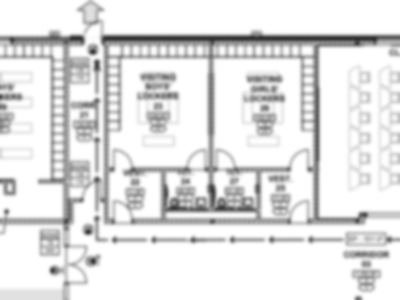door: (288, 199, 312, 223), (111, 199, 133, 223), (111, 148, 133, 170), (184, 148, 207, 169), (289, 148, 311, 169), (215, 148, 236, 169), (83, 19, 105, 39)
double door: (64, 245, 88, 285)
wall: (130, 216, 293, 227), (62, 43, 71, 232), (312, 45, 320, 219), (100, 40, 377, 45), (102, 44, 109, 227), (306, 217, 362, 228), (158, 170, 170, 220), (234, 165, 294, 175), (1, 217, 65, 226), (8, 40, 86, 47), (254, 166, 262, 221), (130, 166, 187, 173), (38, 178, 65, 186)
